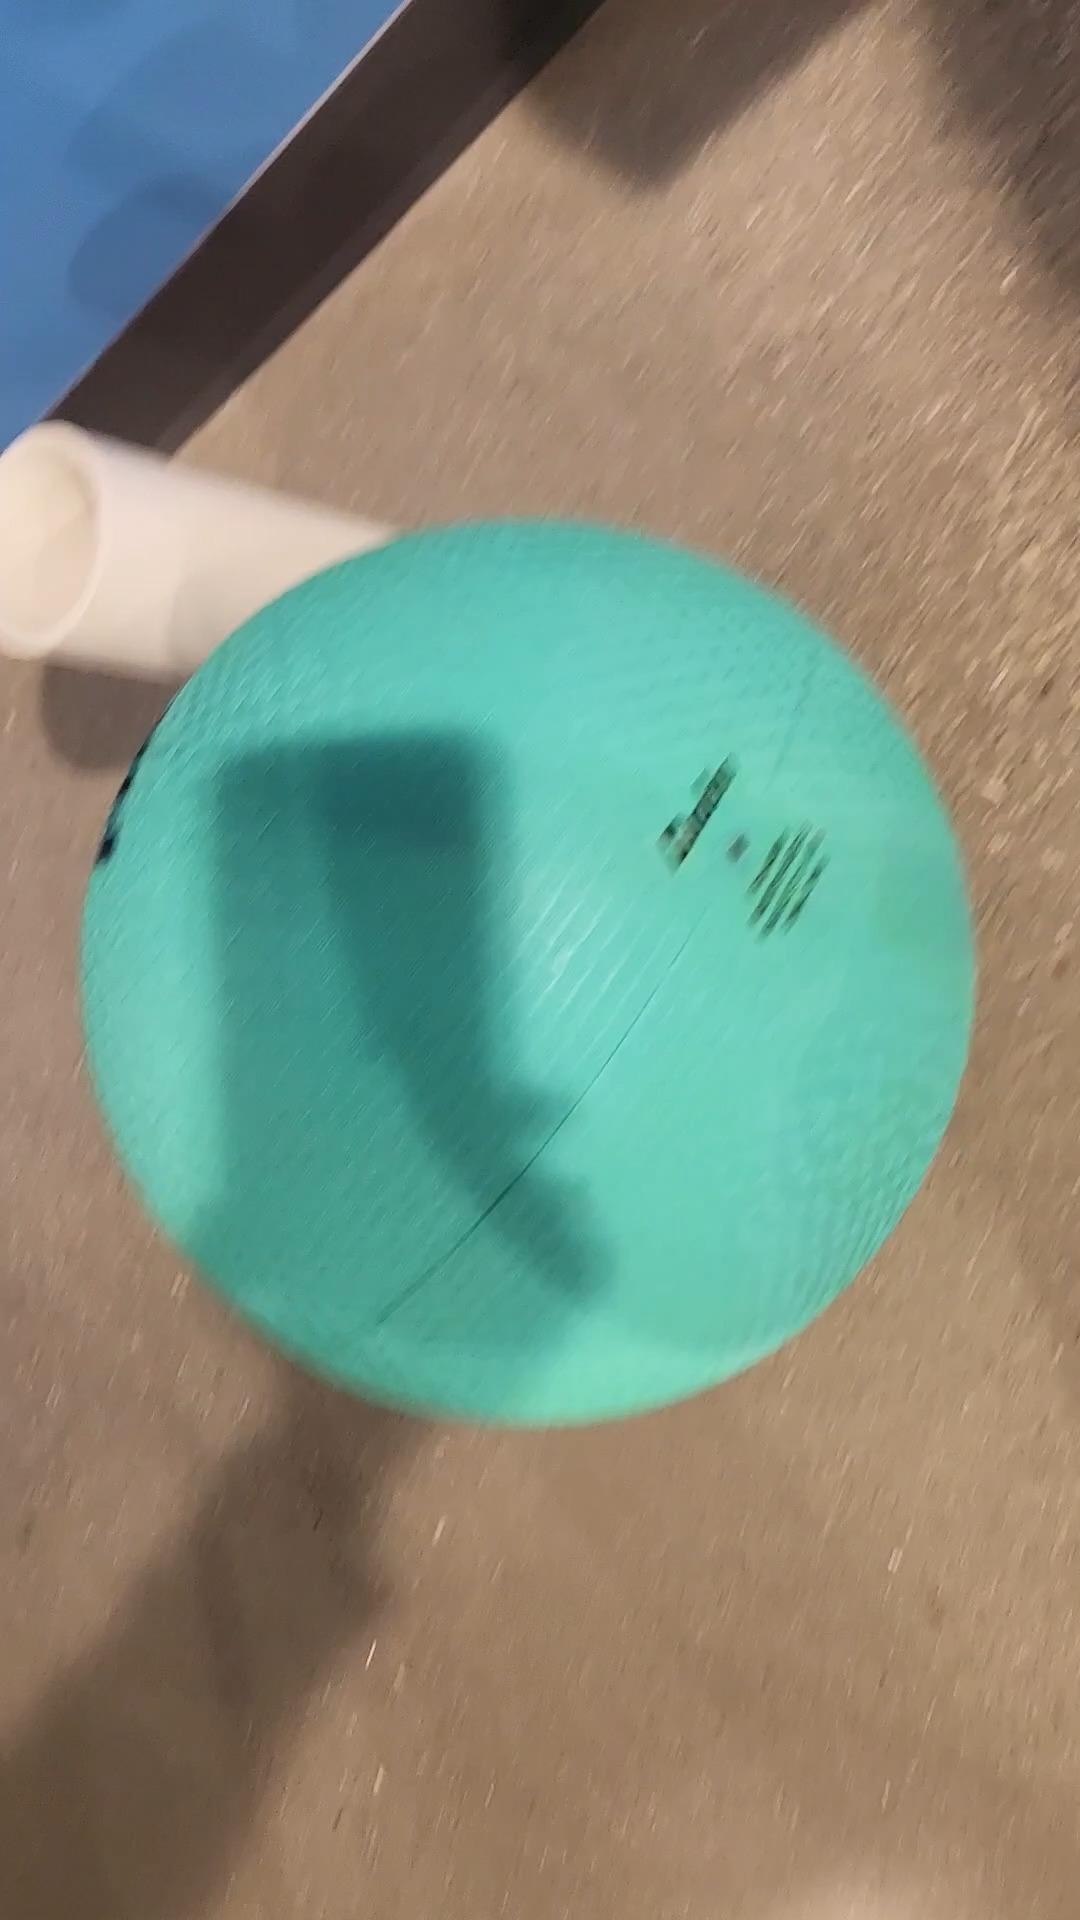algae: (70, 504, 986, 1444)
coral: (0, 427, 410, 700)
